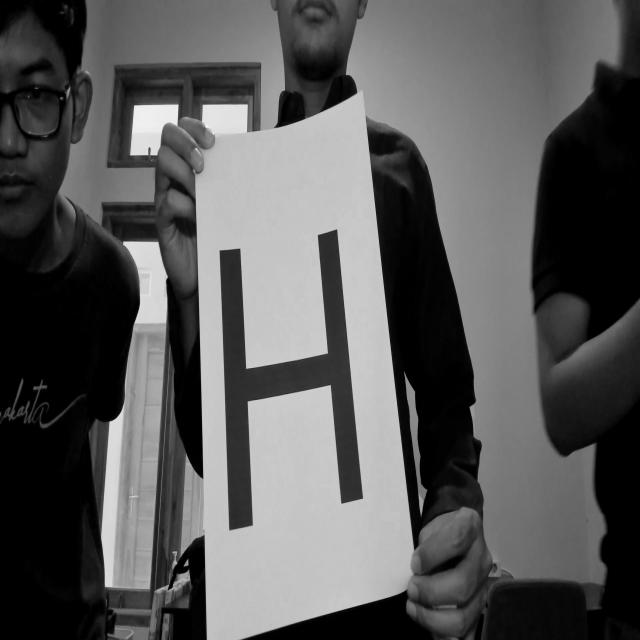h: (196, 208, 371, 556)
